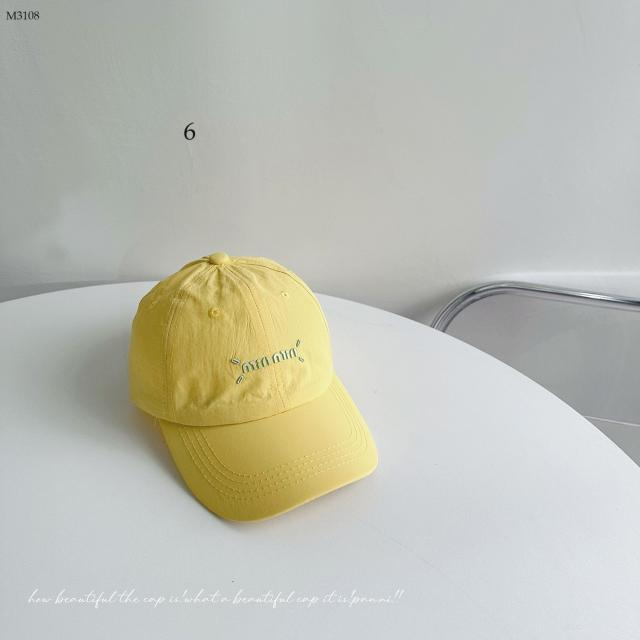no_helmet: (124, 248, 389, 529)
